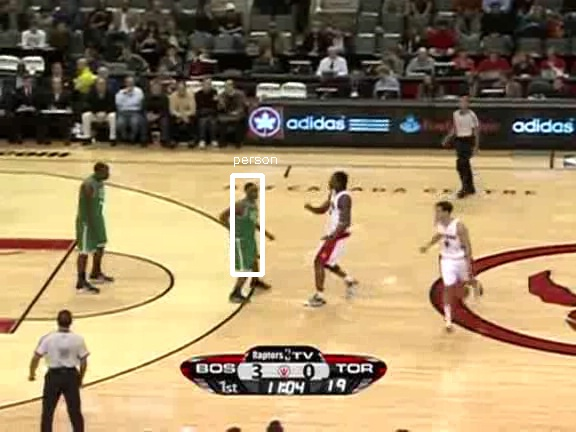person: (230, 193, 264, 274), (229, 193, 263, 274), (231, 193, 265, 274), (230, 192, 264, 273), (230, 194, 264, 275)
target_negative: (131, 41, 347, 426), (78, 242, 172, 401), (463, 118, 527, 332), (516, 107, 543, 339), (152, 281, 190, 316), (571, 106, 572, 356)
